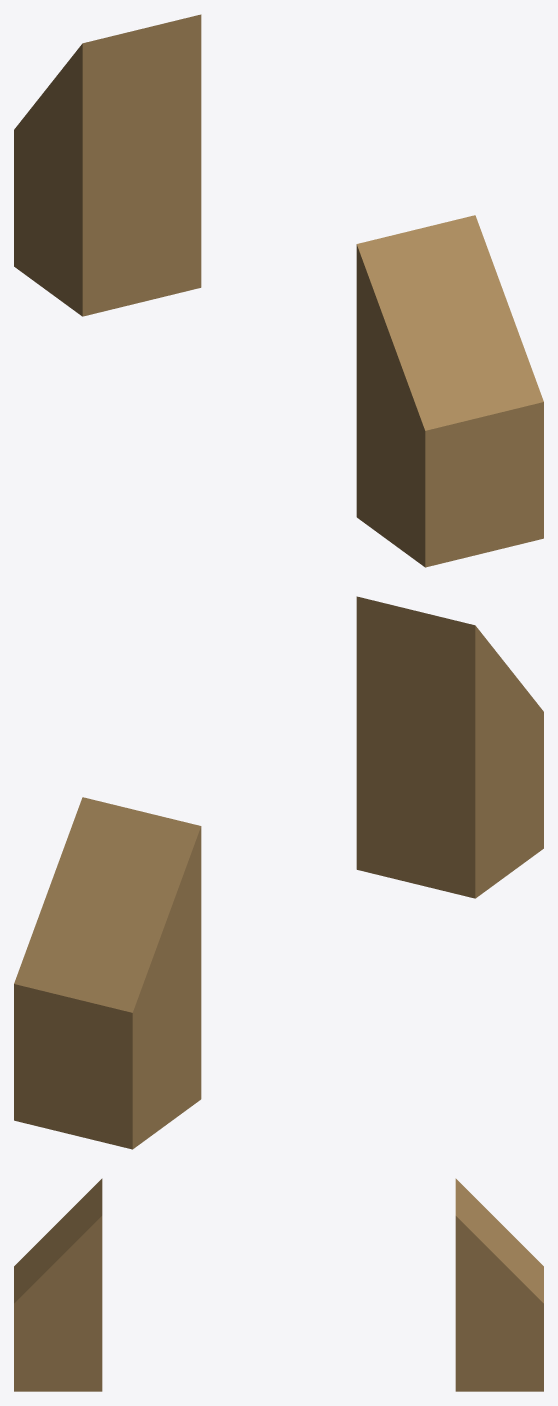
The model's file is Wood_Fence_Gate_01.obj.
3 views of the same model, one above another, from view 1: azimuth 30°, elevation 25°; view 2: azimuth 150°, elevation 25°; view 3: azimuth 270°, elevation 25° (orthographic). The views are drawn at different scales.
Visible parts, largest first — view 1: Mesh2 Wood_Fence_Gate Model, Mesh1 Wood_Fence_Gate Model; view 2: Mesh1 Wood_Fence_Gate Model, Mesh2 Wood_Fence_Gate Model; view 3: Mesh1 Wood_Fence_Gate Model, Mesh2 Wood_Fence_Gate Model.
Part boxes in pixels (x1,y1,x2,y2): Mesh2 Wood_Fence_Gate Model: (356,215,543,567); Mesh1 Wood_Fence_Gate Model: (14,14,201,316); Mesh1 Wood_Fence_Gate Model: (14,797,201,1149); Mesh2 Wood_Fence_Gate Model: (356,596,543,898); Mesh1 Wood_Fence_Gate Model: (455,1178,543,1391); Mesh2 Wood_Fence_Gate Model: (14,1178,102,1391).
Bounding box in the file's own units: 0.5 × 1.1 × 3.
Materials: 1 (1 with a texture image).
